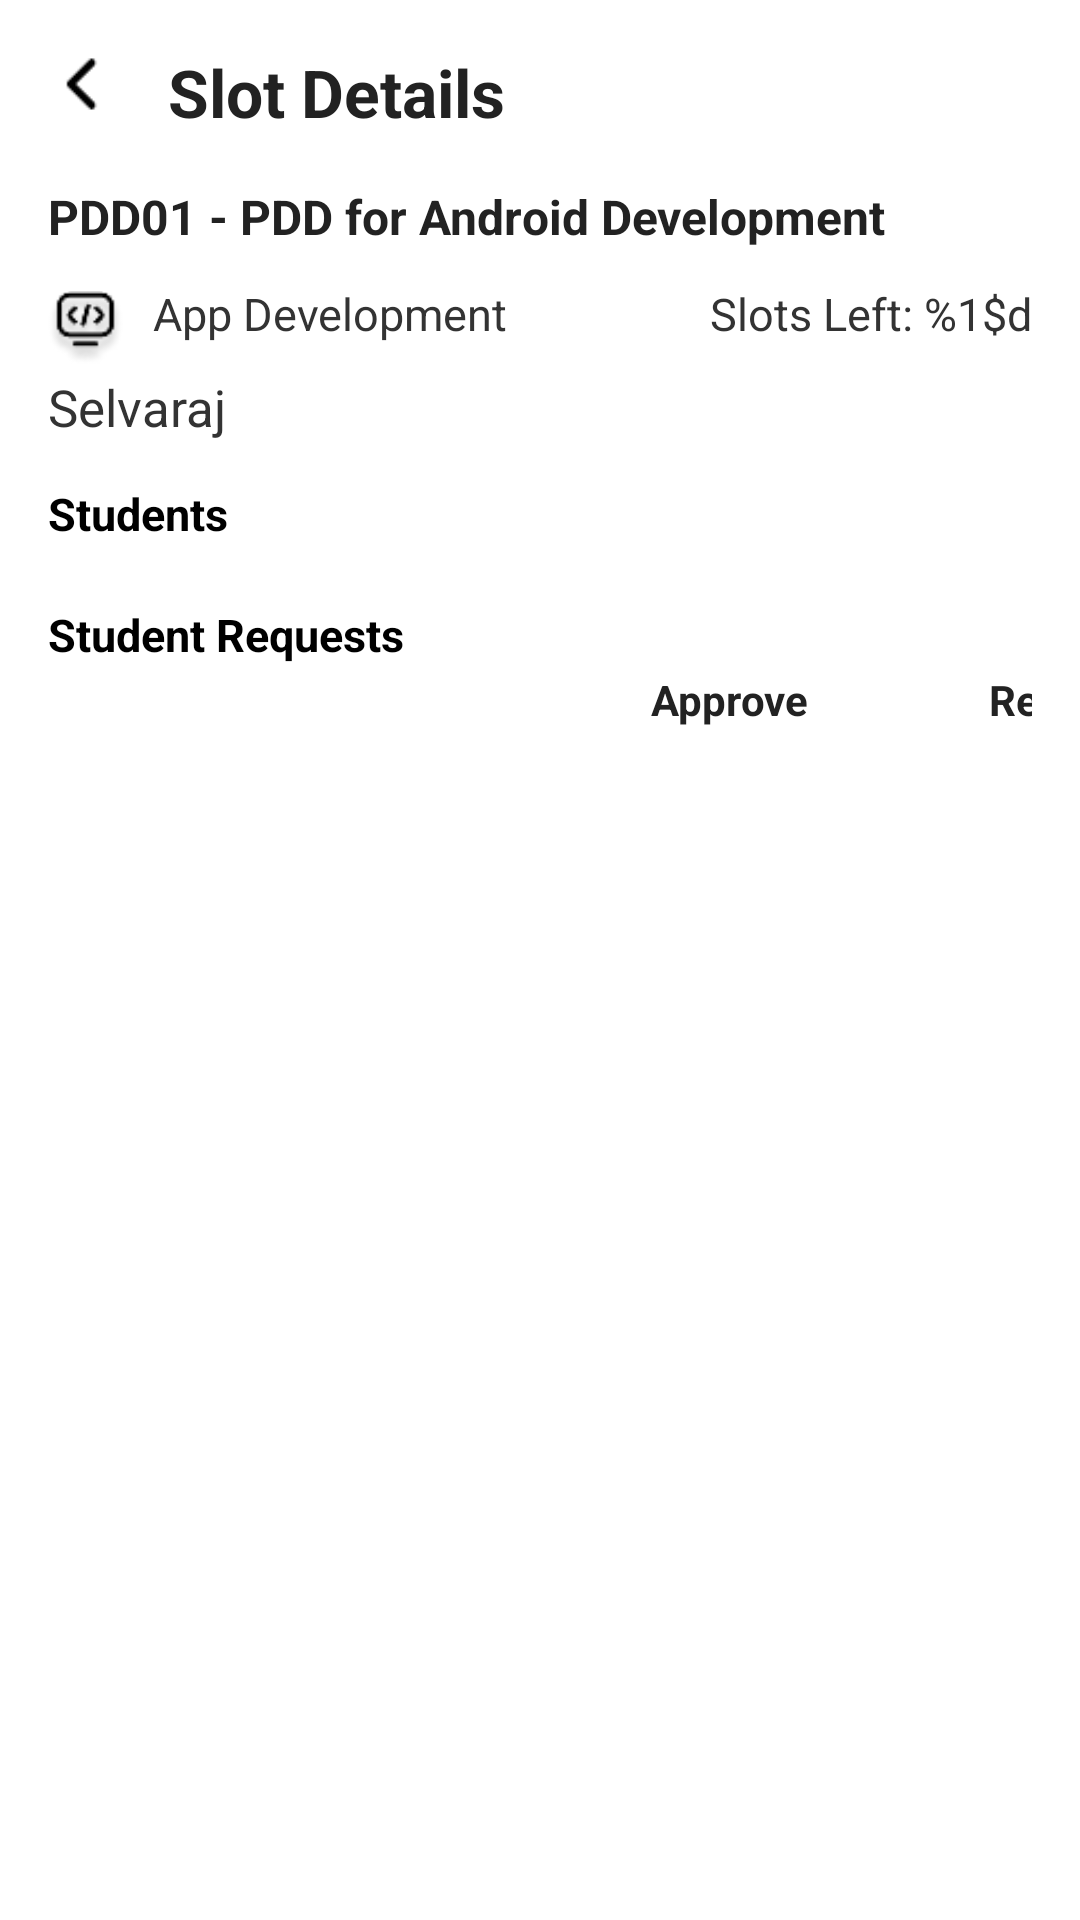

Where icons sit on this 1080×1920 app screen, as [x1=x1, y1=y1, x2=x2, y2=y2]:
Back: [x1=66, y1=58, x2=97, y2=110]
dev: [x1=56, y1=291, x2=115, y2=355]
